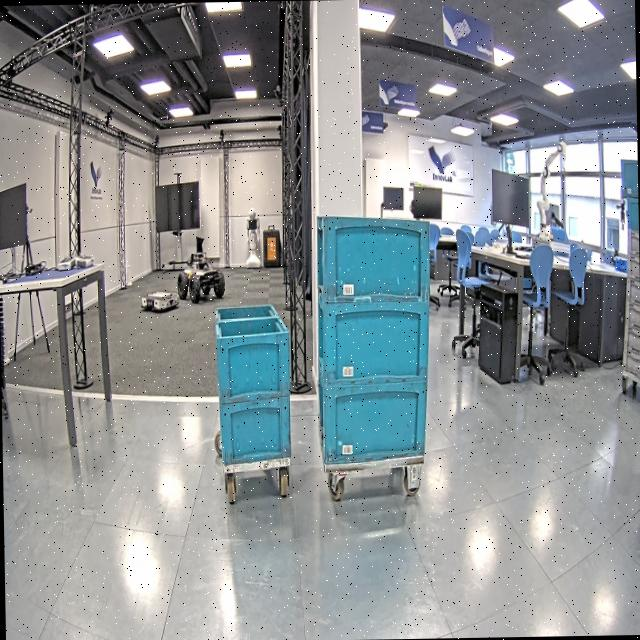BoxB4: (315, 214, 430, 302), (318, 300, 432, 386), (319, 382, 427, 462)
BoxB8: (216, 320, 290, 398), (218, 400, 290, 458), (215, 306, 278, 320)
